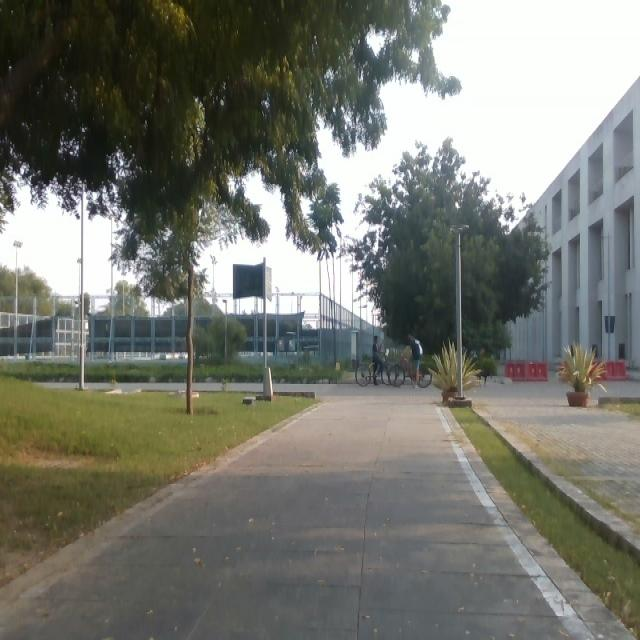lane: (0, 404, 574, 640)
